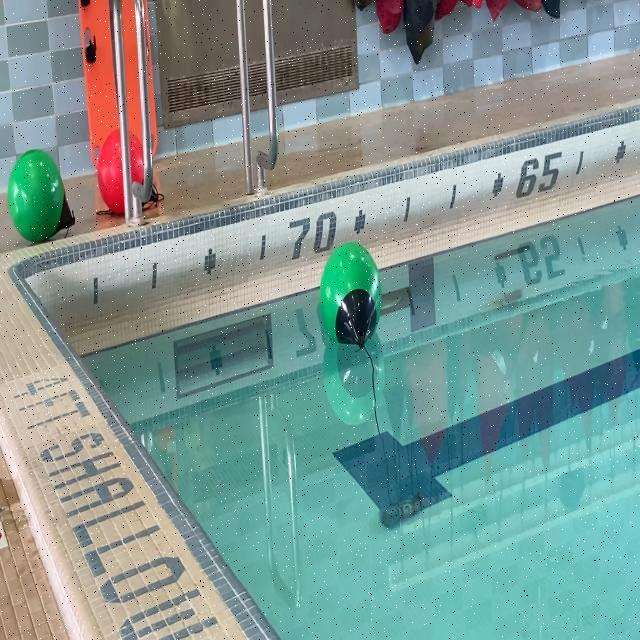buoy: (318, 240, 382, 351), (8, 148, 76, 243)
